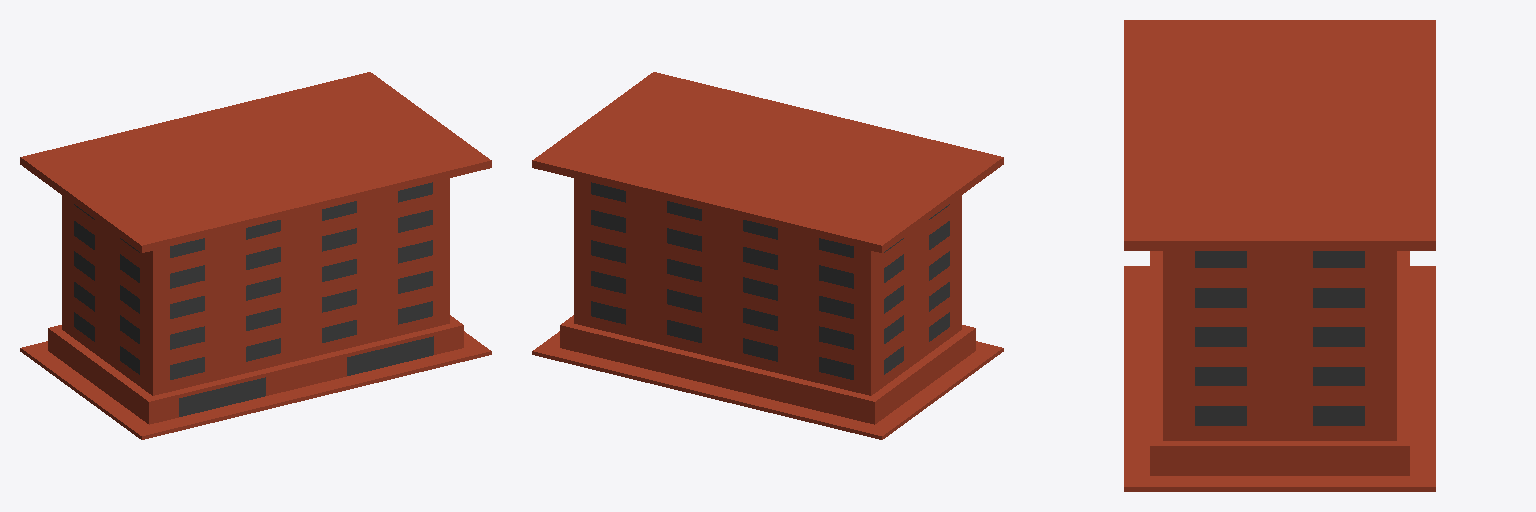
robot.urdf — building_2:
<?xml version="1.0"?> 

<!-- Copyright 2023 [author] -->

<!-- Licensed under the Apache License, Version 2.0 (the "License"); -->
<!-- you may not use this file except in compliance with the License. -->
<!-- You may obtain a copy of the License at -->

<!--     http://www.apache.org/licenses/LICENSE-2.0 -->

<!-- Unless required by applicable law or agreed to in writing, software -->
<!-- distributed under the License is distributed on an "AS IS" BASIS, -->
<!-- WITHOUT WARRANTIES OR CONDITIONS OF ANY KIND, either express or implied. -->
<!-- See the License for the specific language governing permissions and -->
<!-- limitations under the License. -->

<!-- Authors: [author], [author] -->

<robot name="building_2">
    <link name="building_2">
        <visual>
            <origin xyz="0 0 0" rpy="0 0 0" />
            <geometry>
                <mesh filename='meshes/building_2.stl' scale='0.06 0.06 0.025' />
            </geometry>
            <material name="brick">
                <color rgba="0.7 0.3 0.2 1"/>
            </material>
        </visual>
        <collision>
            <origin xyz="0 0 0" rpy="0 0 0" />
            <geometry>
                <mesh filename='meshes/building_2.stl' scale='0.06 0.06 0.025' />
            </geometry>
        </collision>
        <inertial>
            <mass value="10"/>
            <inertia ixx="0.4" ixy="0.0" ixz="0.0" iyy="0.4" iyz="0.0" izz="0.2" />
        </inertial>
    </link>
    <link name="windows">
        <visual>
            <origin xyz="0 0 0" rpy="0 0 0" />
            <geometry>
                <mesh filename='meshes/building_2windows.stl' scale='0.06 0.06 0.025'/>
            </geometry>
            <material name="black">
                <color rgba="0.3 0.3 0.3 1"/>
            </material>
        </visual>
        <collision>
            <origin xyz="0 0 0" rpy="0 0 0" />
            <geometry>
                <mesh filename='meshes/building_2windows.stl' scale='0.06 0.06 0.025'/>
            </geometry>
        </collision>
        <inertial>
            <mass value="10"/>
            <inertia ixx="0.4" ixy="0.0" ixz="0.0" iyy="0.4" iyz="0.0" izz="0.2" />
        </inertial>
    </link>
    <joint name="window" type="fixed">
        <origin rpy="0 0 0" xyz="0 0 0"/>
        <parent link="building_2"/>
        <child link="windows"/>
    </joint>
    <link name="doors">
        <visual>
            <origin xyz="0 0 0" rpy="0 0 0" />
            <geometry>
                <mesh filename='meshes/building_2doors.stl' scale='0.06 0.06 0.025'/>
            </geometry>
            <material name="black">
                <color rgba="0.3 0.3 0.3 1"/>
            </material>
        </visual>
        <collision>
            <origin xyz="0 0 0" rpy="0 0 0" />
            <geometry>
                <mesh filename='meshes/building_2doors.stl' scale='0.06 0.06 0.025'/>
            </geometry>
        </collision>
        <inertial>
            <mass value="10"/>
            <inertia ixx="0.4" ixy="0.0" ixz="0.0" iyy="0.4" iyz="0.0" izz="0.2" />
        </inertial>
    </link>
    <joint name="door" type="fixed">
        <origin rpy="0 0 0" xyz="0 -0.15 0"/>
        <parent link="building_2"/>
        <child link="doors"/>
        <axis xyz="-1 0 0"/>
    </joint>
</robot>

--- Facts derived from the render (not from the file) ---
3 views of the same robot in one strip: view 1: azimuth 30°, elevation 25°; view 2: azimuth 150°, elevation 25°; view 3: azimuth 270°, elevation 25° (orthographic).
Robot: building_2 — 3 links, 2 joints (2 fixed); root link building_2; default pose: all joints at 0.
Visible links, largest first — view 1: building_2, windows, doors; view 2: building_2, windows; view 3: building_2, windows.
Link boxes in pixels (box(x1,y1,x2,y2)): building_2: box(20, 72, 491, 439); windows: box(74, 182, 432, 379); doors: box(179, 336, 433, 416); building_2: box(532, 72, 1003, 439); windows: box(591, 182, 949, 379); building_2: box(1124, 20, 1435, 491); windows: box(1195, 251, 1364, 425).
Size in the robot's own frame: 6 by 3.6 by 3.19 metres.
Meshes: 3 distinct files referenced, 3 mesh visuals loaded (3 binary STL).
